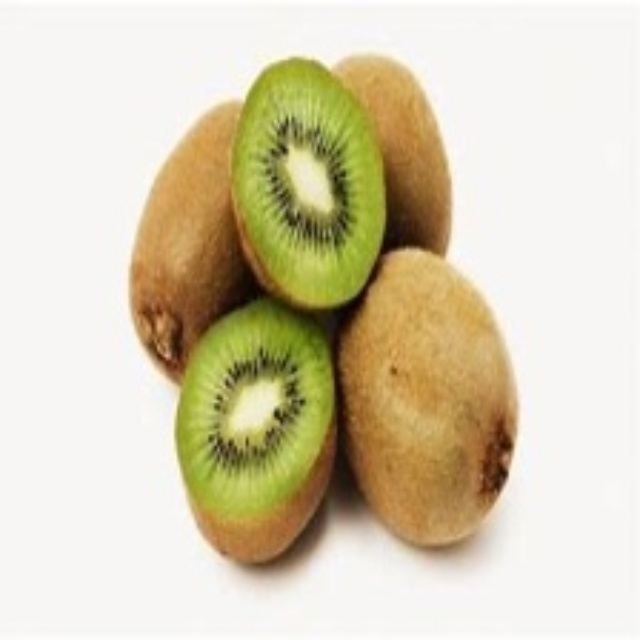kiwi: (336, 251, 515, 549), (176, 297, 351, 572), (122, 94, 268, 377), (235, 49, 381, 314), (325, 41, 463, 272)
